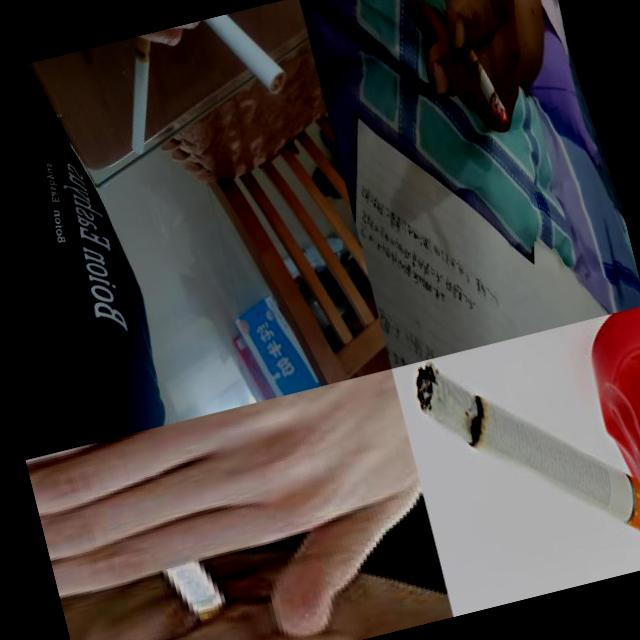smoke: (408, 309, 640, 589), (174, 3, 292, 116), (104, 31, 184, 158), (155, 535, 240, 640), (442, 0, 509, 133)
